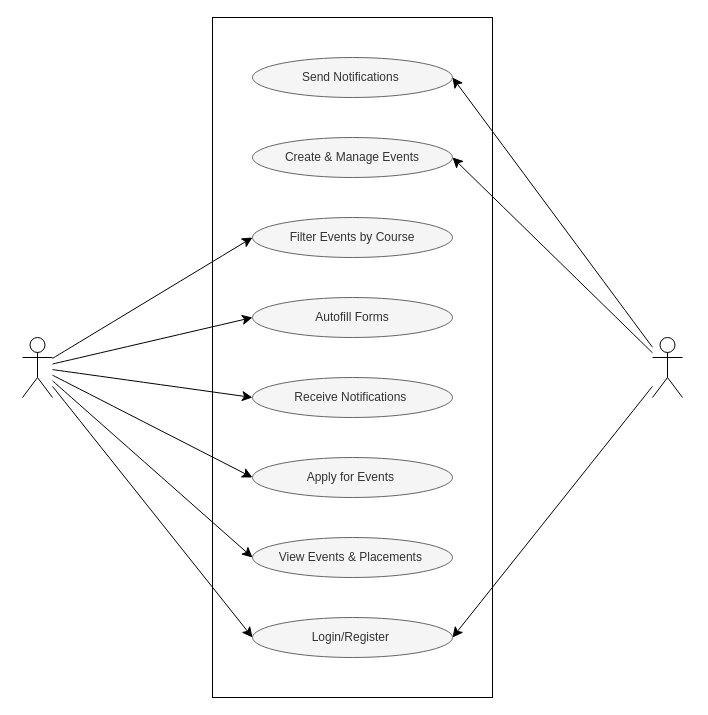
This 708x715 diagram has some shape labels left out. Each missing label, with the centre of its shape:
"Student" goes at (37,367).
"Teacher" goes at (667,367).
